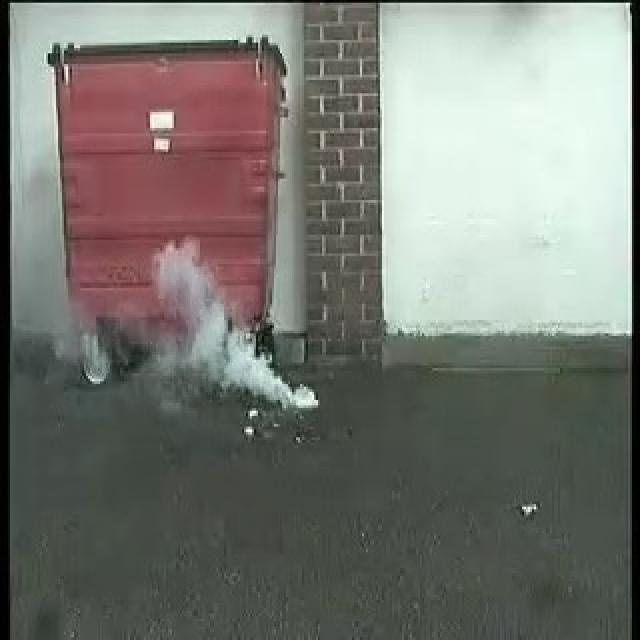smoke: (152, 240, 318, 405)
